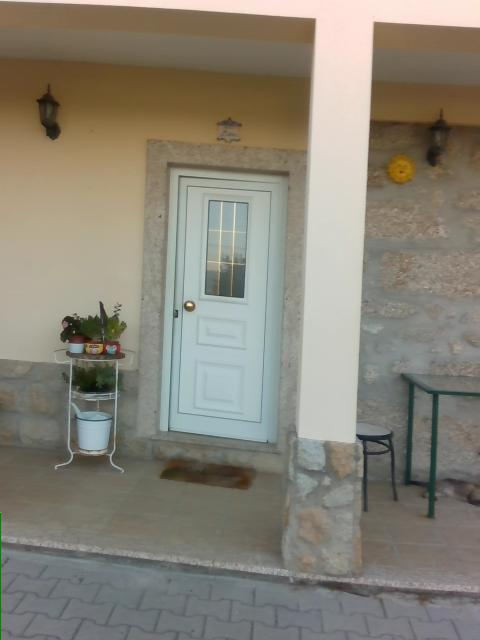door: (156, 162, 291, 449)
